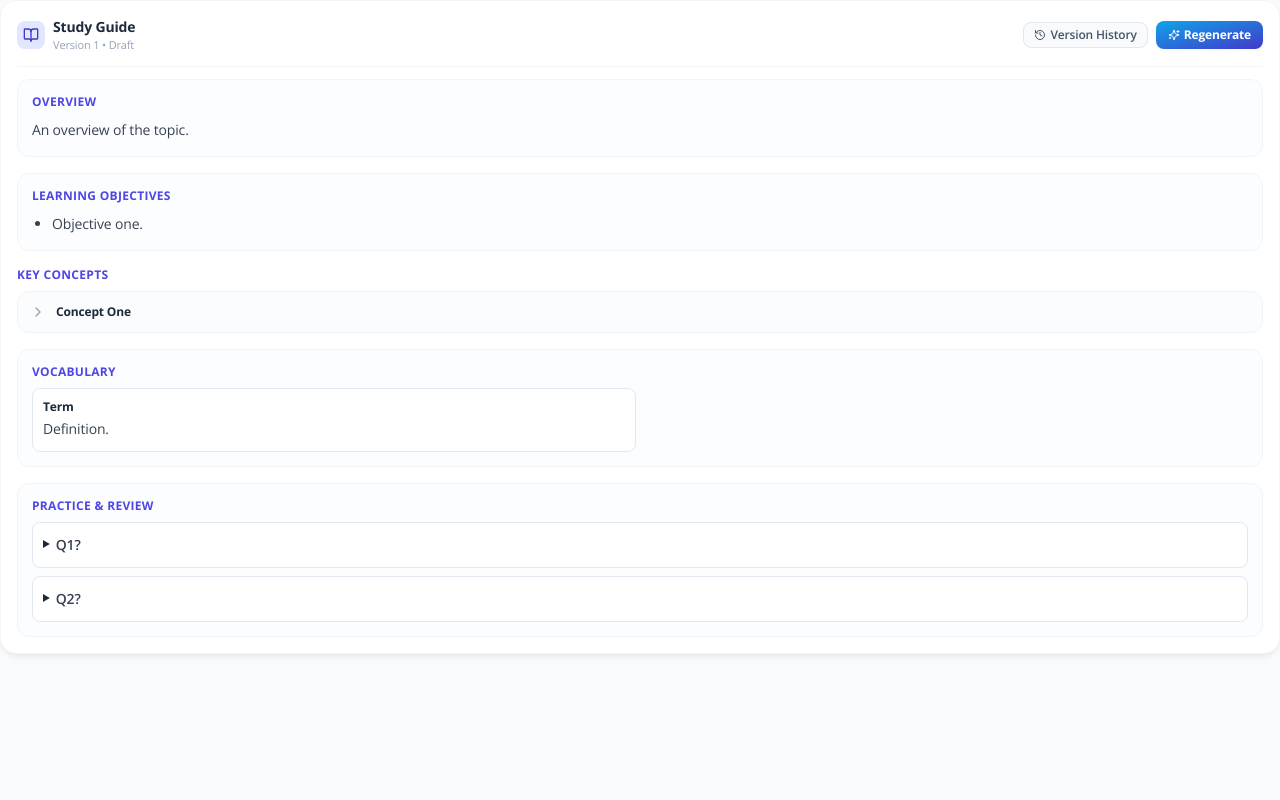
Test: StudyGuideSection › renders a full guide — overview, concepts, vocabulary, and questions — without throwing
Expected: the text "An overview of the topic." is shown, [32,120,189,138]
Expected: the text "Objective one." is shown, [52,212,143,236]
# Expanding a concept renders its example/misconception branches without crashing.
Step 1. Click the button "Concept One" → [93, 311], box [18,292,1262,332]
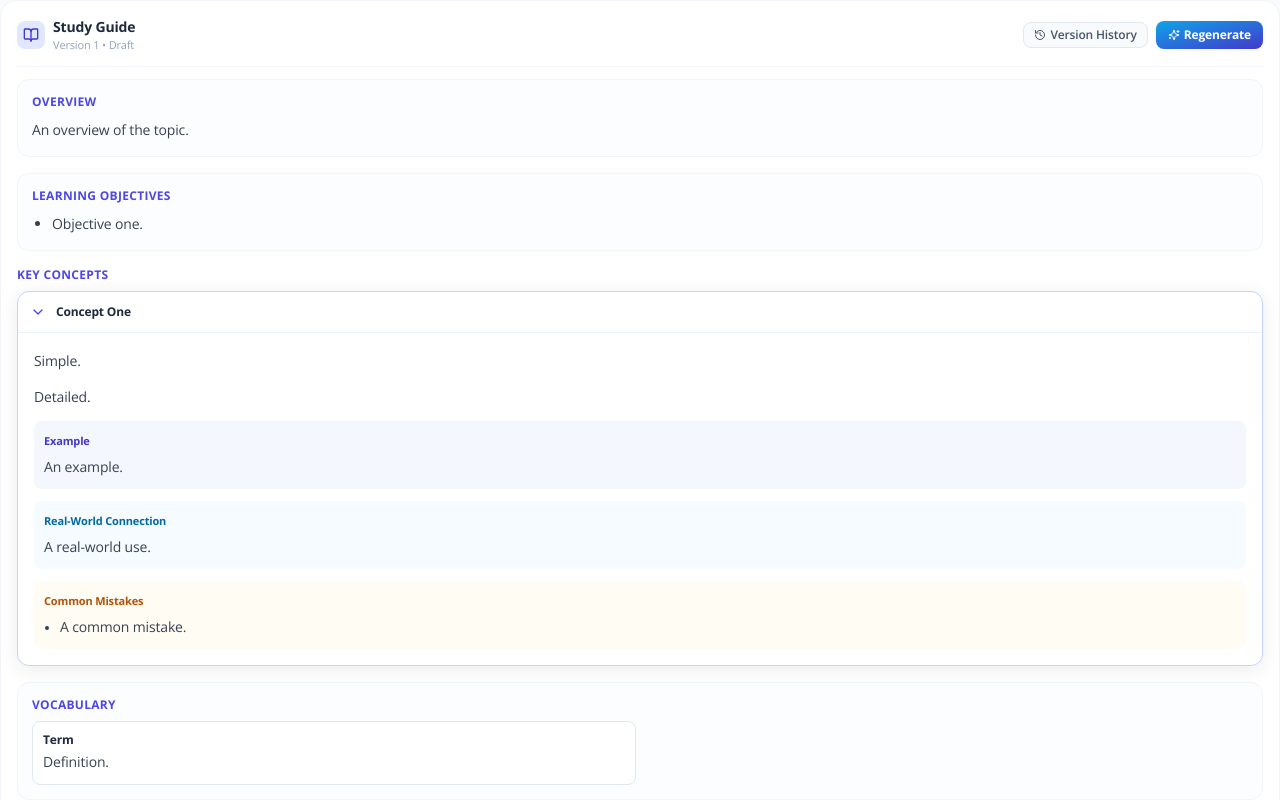
Expected: the text "A common mistake." is shown, [60,614,186,638]
